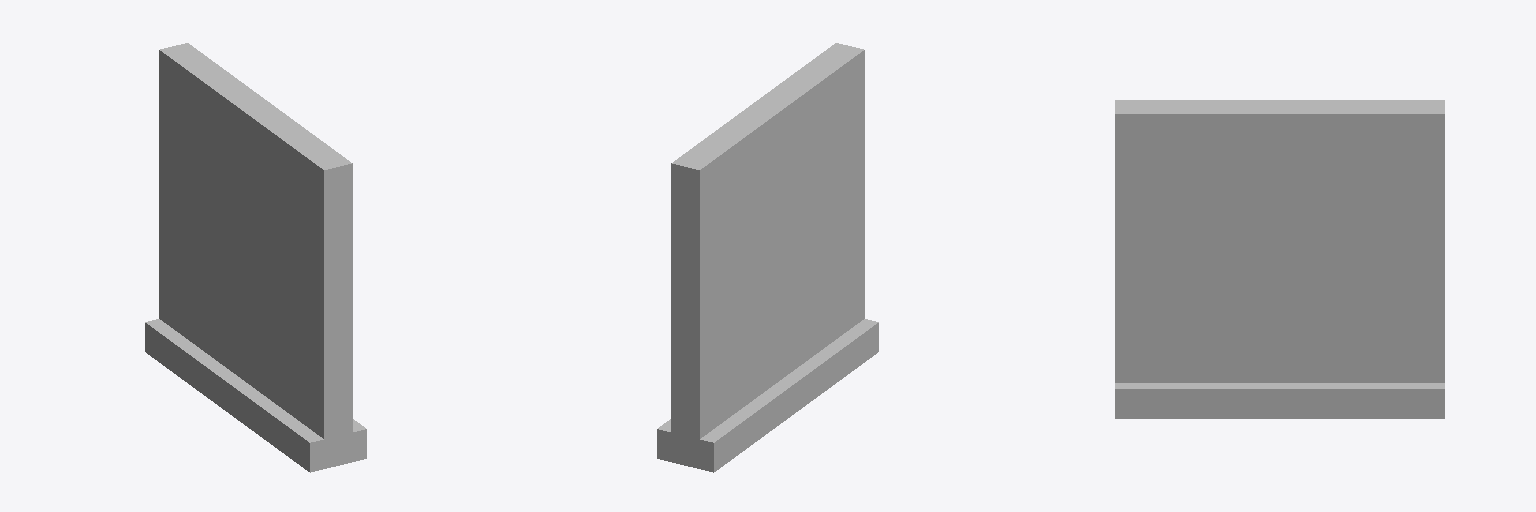
The model's file is Window.obj.
3 views of the same model, side by side, from view 1: azimuth 30°, elevation 25°; view 2: azimuth 150°, elevation 25°; view 3: azimuth 270°, elevation 25° (orthographic).
Visible parts, largest first — view 1: Window; view 2: Window; view 3: Window.
Boxes of the visible parts, x1=… form: Window: x1=145, y1=43, x2=366, y2=472; Window: x1=657, y1=43, x2=878, y2=472; Window: x1=1115, y1=100, x2=1444, y2=418.
Bounding box in the file's own units: 0.2 × 1 × 1.